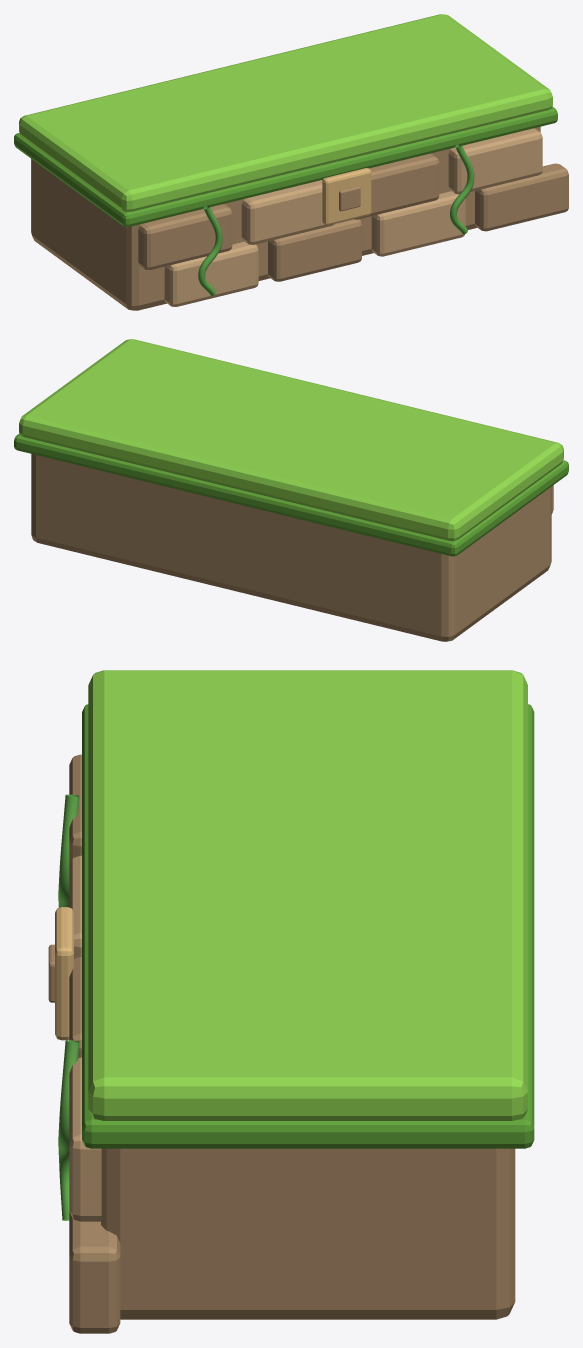
The model's file is plataforma_tropical_prototipo.glb.
The picture shows the model from 3 angles, top to bottom: view 1: azimuth 30°, elevation 25°; view 2: azimuth 150°, elevation 25°; view 3: azimuth 270°, elevation 25°; orthographic projection. The views are drawn at different scales.
Parts seen in each view (by area): view 1: Plataforma_Cesped_Superior, Plataforma_Piedra_Base, Plataforma_Borde_Cesped, Bloque_Frontal_1_3, Bloque_Frontal_0_3, Bloque_Frontal_0_0, Bloque_Frontal_1_1, Bloque_Frontal_0_1, Bloque_Frontal_1_2, Bloque_Frontal_1_0, Bloque_Frontal_0_2, Relieve_Central (+3 smaller); view 2: Plataforma_Cesped_Superior, Plataforma_Piedra_Base, Plataforma_Borde_Cesped; view 3: Plataforma_Cesped_Superior, Plataforma_Piedra_Base, Plataforma_Borde_Cesped, Bloque_Frontal_1_3, Bloque_Frontal_0_3, Relieve_Central, Liana_1.65, Liana_-2.0, Bloque_Frontal_0_0, Bloque_Frontal_0_2, Bloque_Frontal_0_1.
Boxes of the visible parts, box(x1,y1,x2,y2) form: Plataforma_Cesped_Superior: box(19, 14, 552, 211); Plataforma_Piedra_Base: box(31, 126, 540, 310); Plataforma_Borde_Cesped: box(14, 107, 557, 227); Bloque_Frontal_1_3: box(475, 163, 568, 231); Bloque_Frontal_0_3: box(448, 128, 542, 194); Bloque_Frontal_0_0: box(138, 204, 232, 269); Bloque_Frontal_1_1: box(268, 219, 361, 281); Bloque_Frontal_0_1: box(241, 180, 334, 244); Bloque_Frontal_1_2: box(371, 191, 465, 256); Bloque_Frontal_1_0: box(164, 241, 258, 306); Bloque_Frontal_0_2: box(354, 153, 439, 219); Relieve_Central: box(322, 168, 371, 225); Plataforma_Cesped_Superior: box(19, 339, 563, 540); Plataforma_Piedra_Base: box(31, 454, 551, 641); Plataforma_Borde_Cesped: box(14, 433, 568, 556); Plataforma_Cesped_Superior: box(88, 670, 527, 1120); Plataforma_Piedra_Base: box(101, 1148, 515, 1319); Plataforma_Borde_Cesped: box(82, 704, 534, 1148); Bloque_Frontal_1_3: box(69, 1212, 120, 1333); Bloque_Frontal_0_3: box(69, 1057, 101, 1221); Relieve_Central: box(55, 907, 73, 1040); Liana_1.65: box(58, 1040, 79, 1220); Liana_-2.0: box(58, 794, 79, 907); Bloque_Frontal_0_0: box(69, 754, 81, 865); Bloque_Frontal_0_2: box(69, 956, 81, 1057); Bloque_Frontal_0_1: box(69, 855, 81, 958).
Size of the model in its own units: 6.42 by 1.74 by 3.05.
